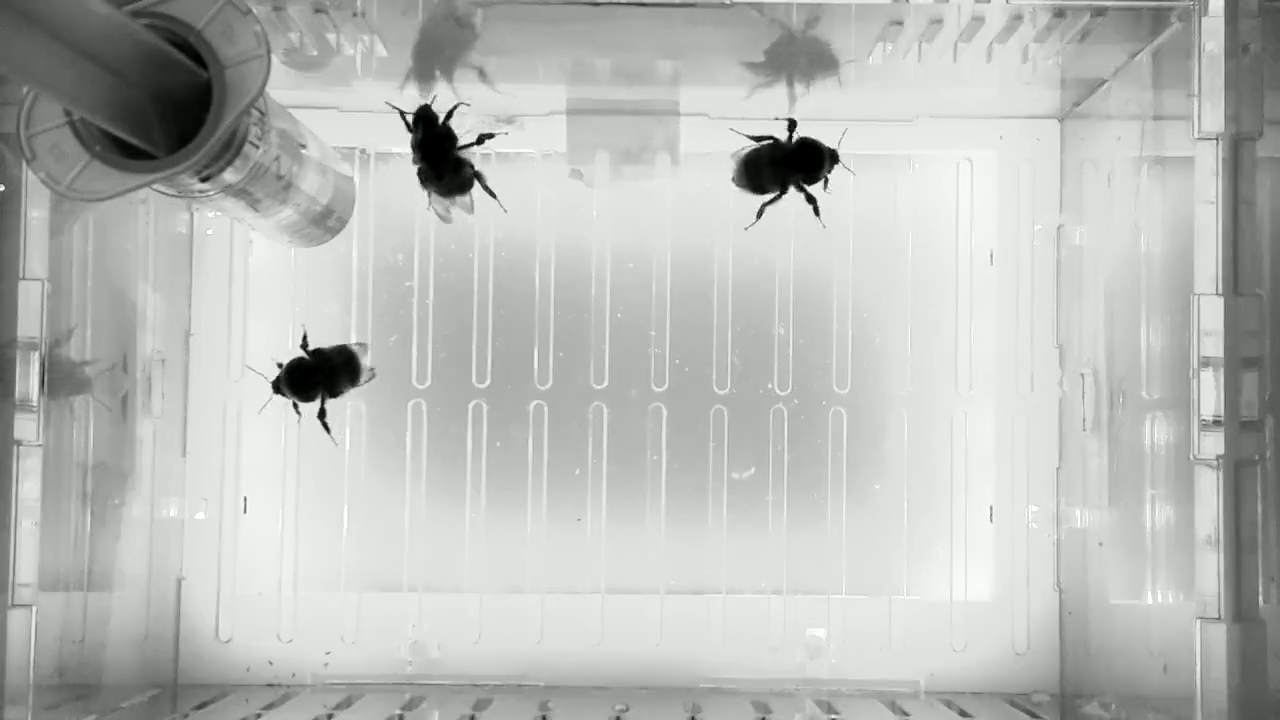bee_alive: (242, 321, 385, 451), (382, 91, 516, 227), (724, 113, 859, 235)
feeder: (187, 90, 362, 252)
